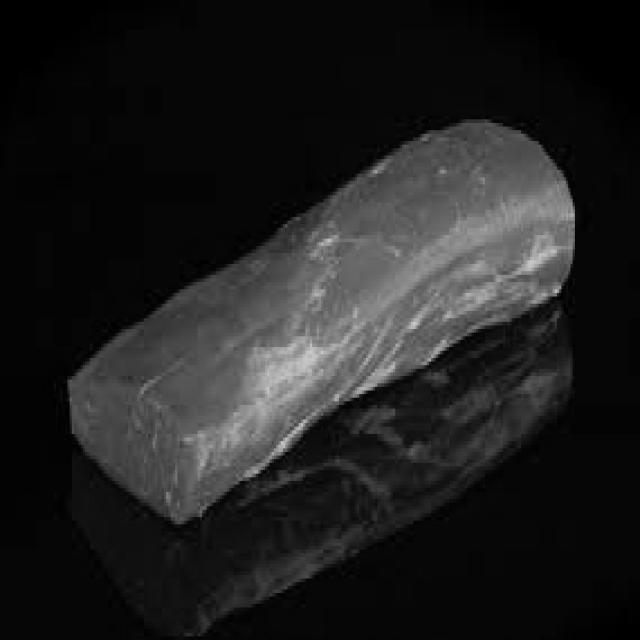filet: (72, 184, 575, 514)
